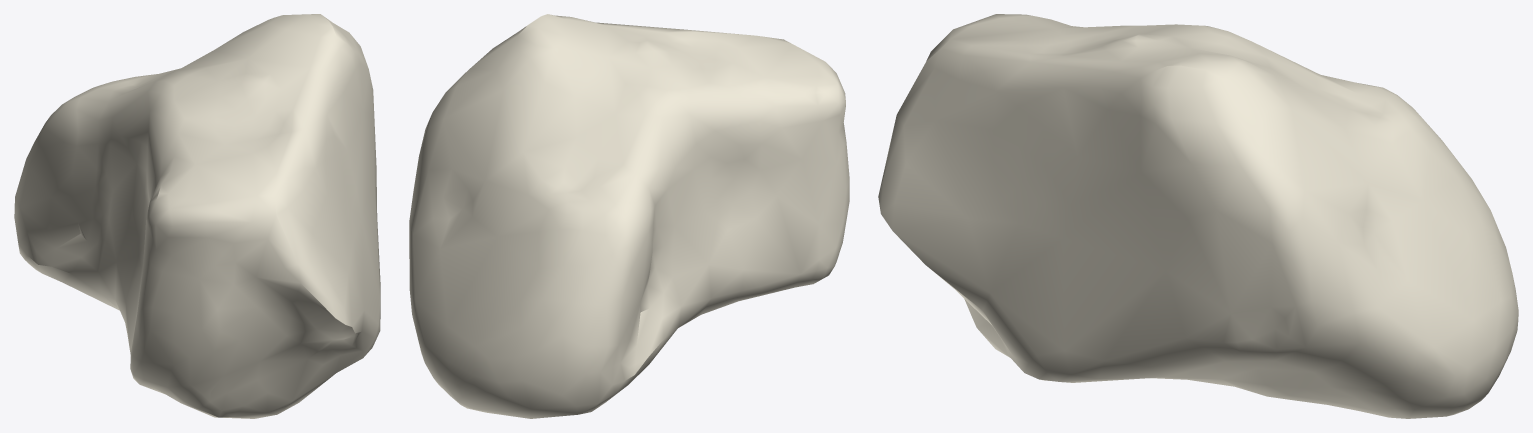
The model's file is fma24445_mm1892m.glb.
3 renders of one model, left to right at view 1: azimuth 30°, elevation 25°; view 2: azimuth 150°, elevation 25°; view 3: azimuth 270°, elevation 25°, orthographic. The views are drawn at different scales.
Visible parts, largest first — view 1: FMA24445_MM1892M; view 2: FMA24445_MM1892M; view 3: FMA24445_MM1892M.
Boxes of the visible parts, box(x1,y1,x2,y2) form: FMA24445_MM1892M: box(14, 14, 380, 418); FMA24445_MM1892M: box(409, 14, 849, 418); FMA24445_MM1892M: box(878, 14, 1518, 418).
Bounding box in the file's own units: 0.0118 × 0.0108 × 0.0168.
